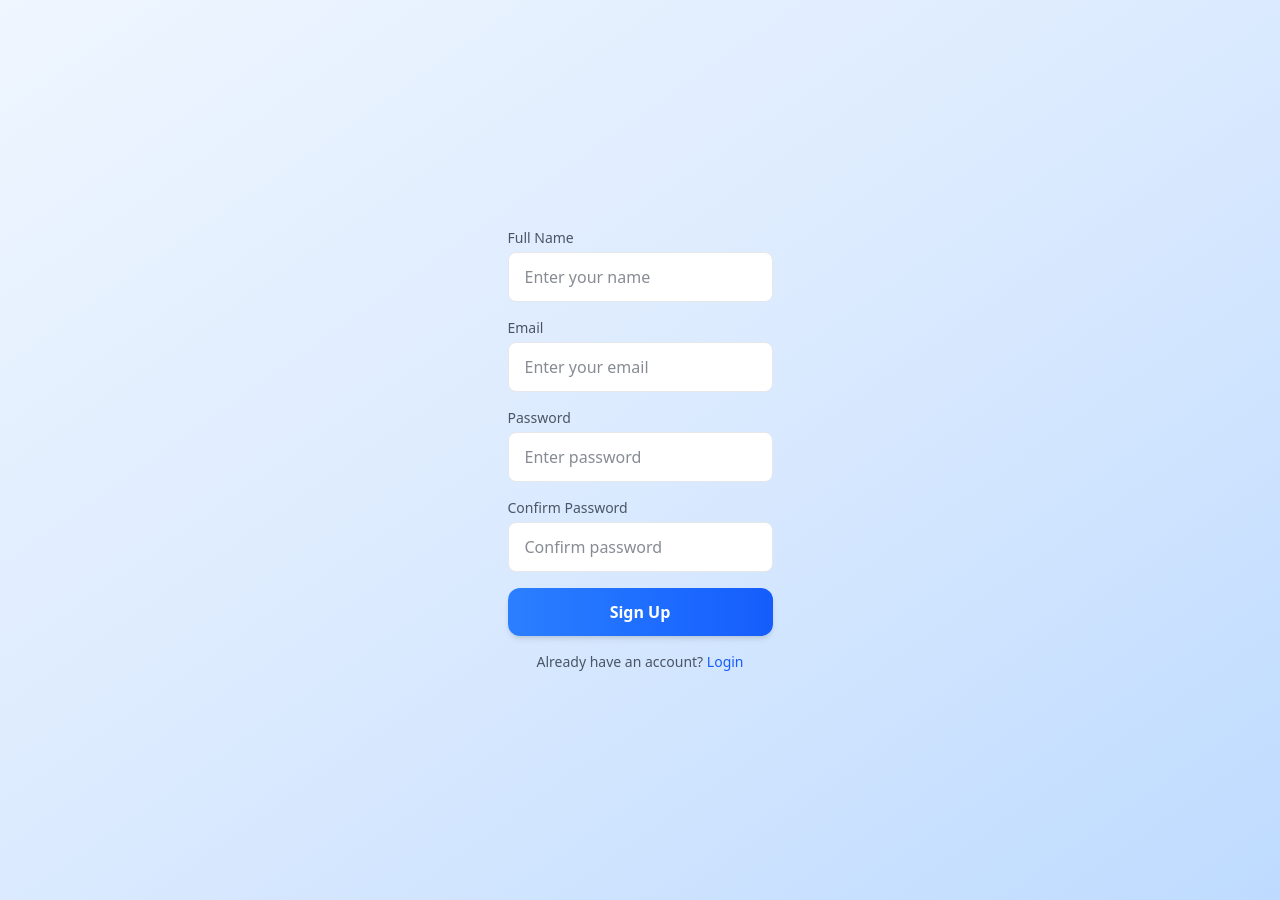
Scenario: auth flow › shows an error for duplicate signup email
This screenshot has width=1280, height=900.
Type "John Doe" into the field with test id "auth-signup-fullname" at (640,277), box 508,252 -> 772,302
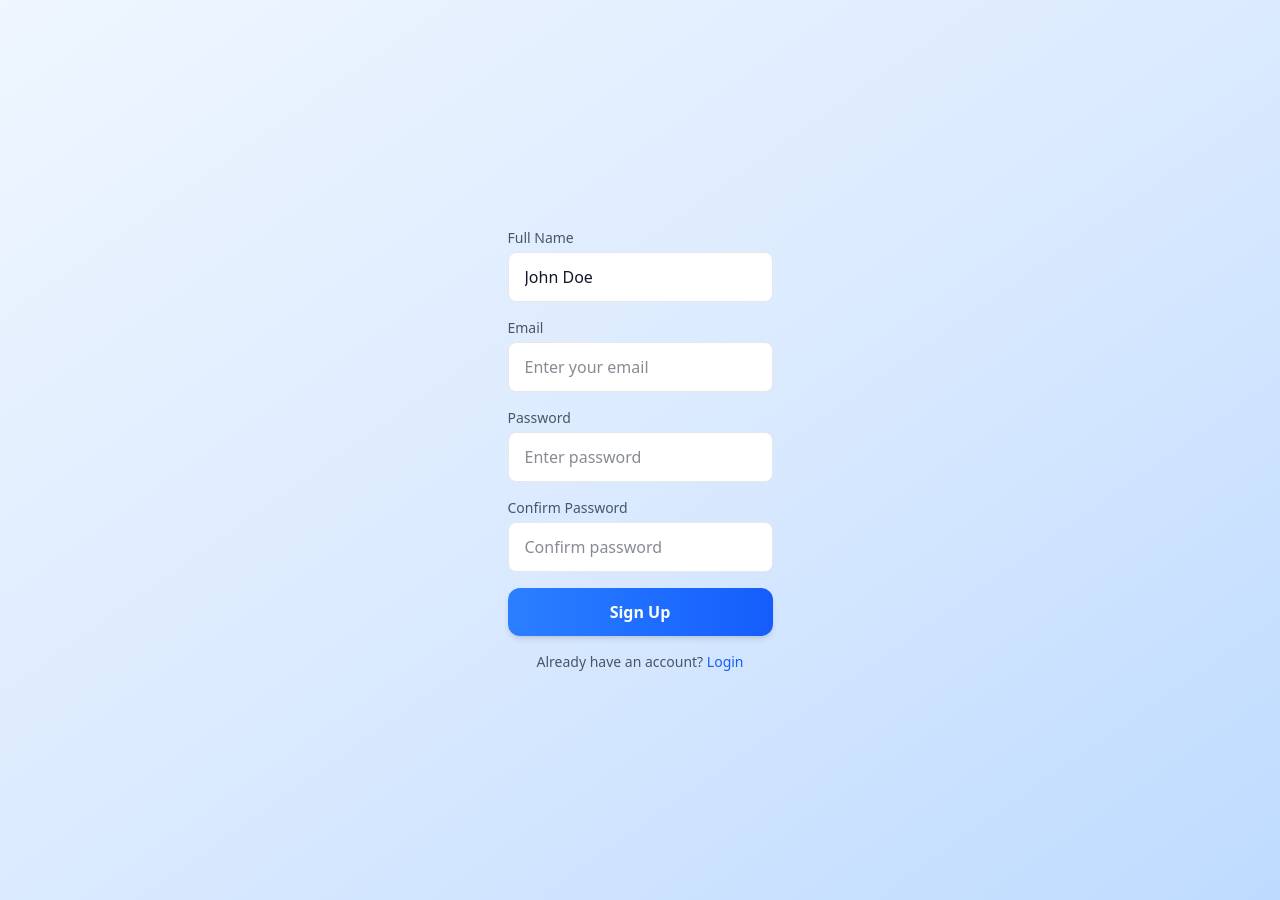
Type "test@example.com" into the field with test id "auth-signup-email" at (640,367), box 508,342 -> 772,392
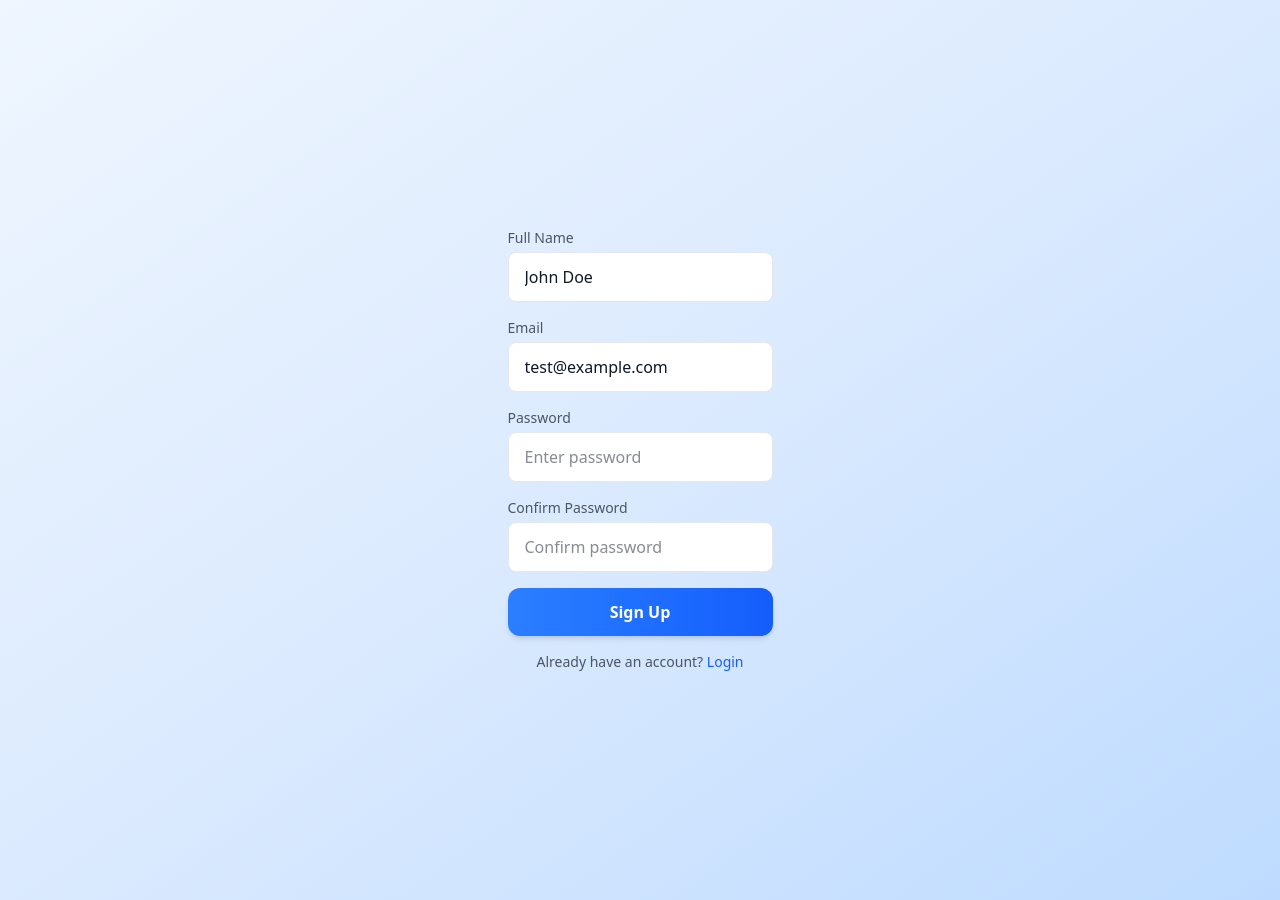
Type "password123" into the password field with test id "auth-signup-password" at (640,457), box 508,432 -> 772,482
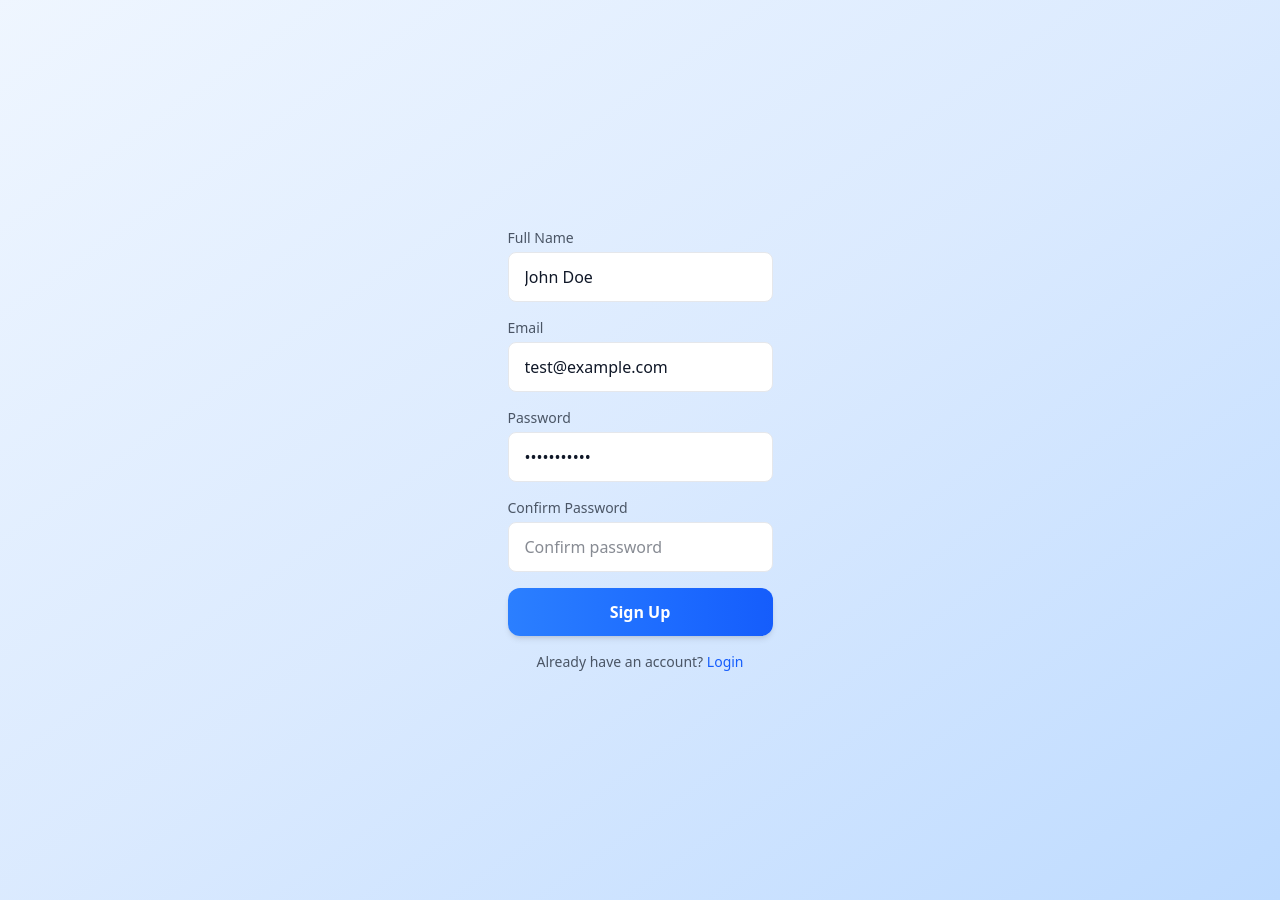
Type "password123" into the password field with test id "auth-signup-confirm-password" at (640,547), box 508,522 -> 772,572
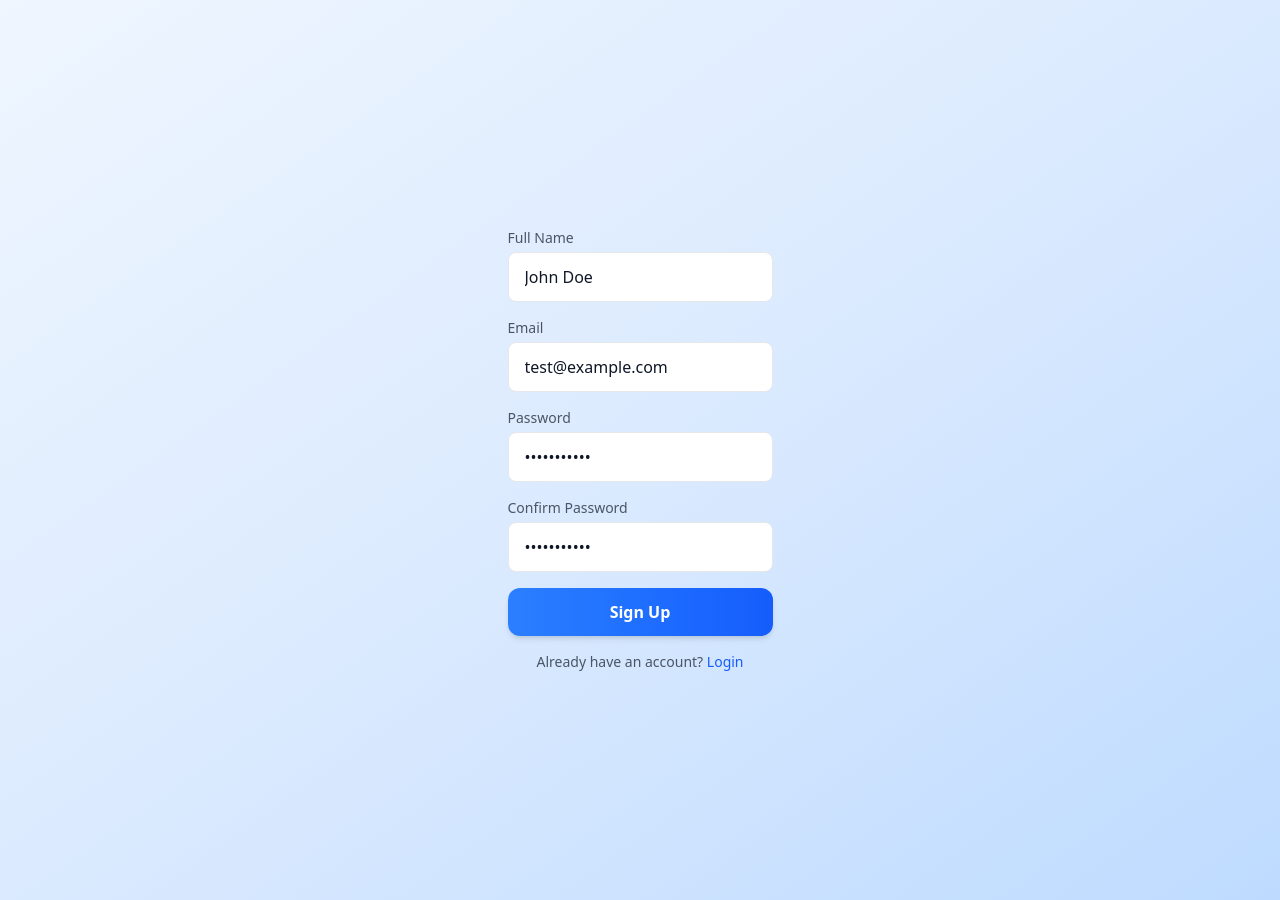
Click the button with test id "auth-signup-submit" at (640,612), box 508,588 -> 772,636
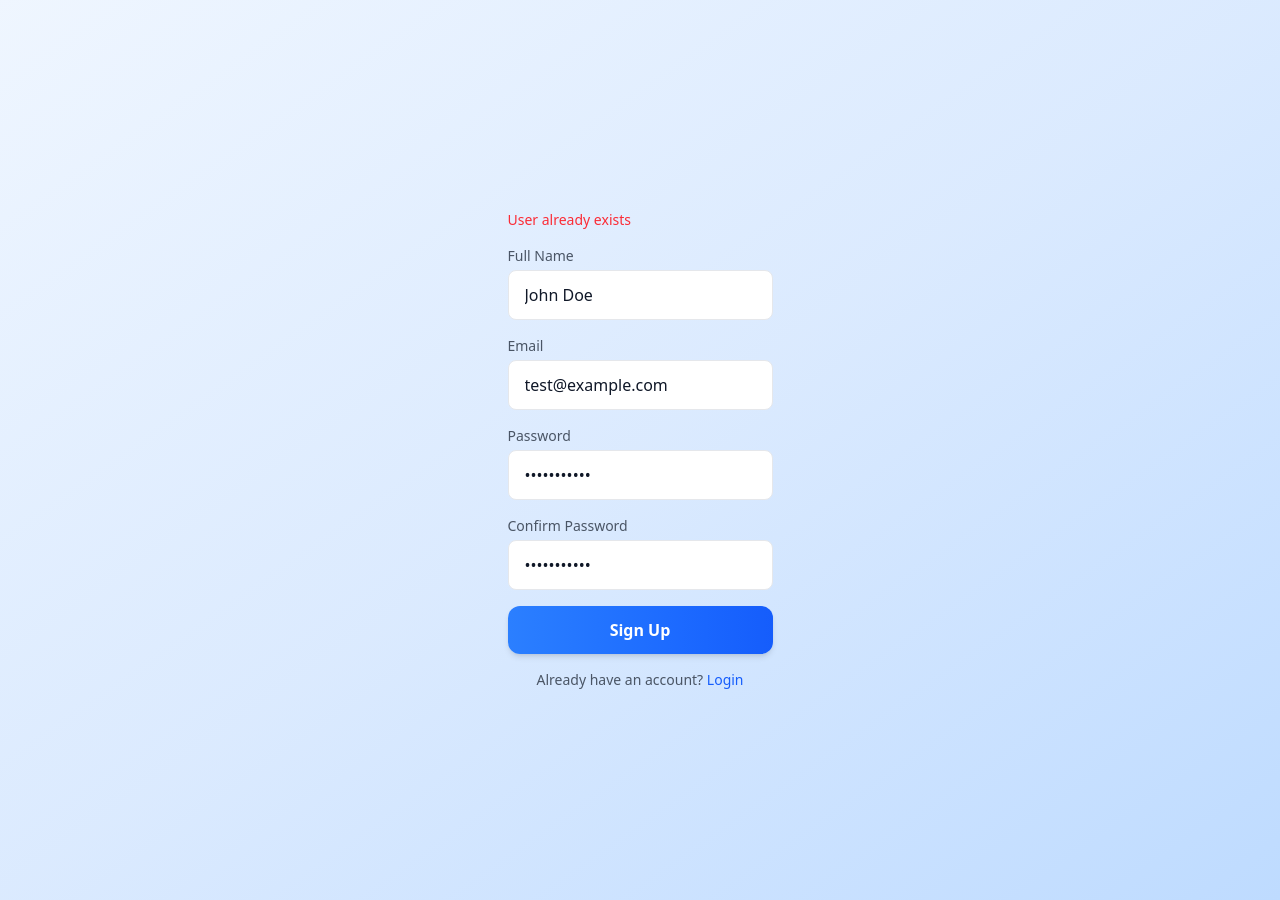
Now the text "User already exists" is shown, box 508,210 -> 631,229
